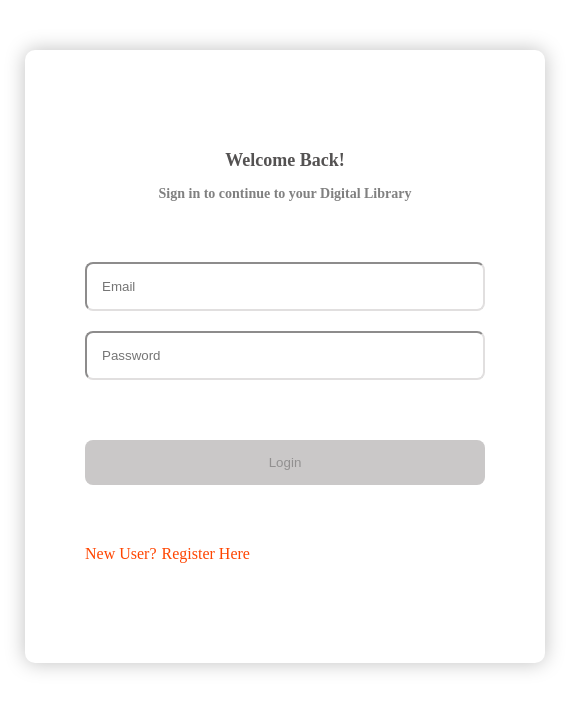
Test: LoginPage › shows success message on successful login
The image size is (571, 714).
In the field with placeholder "Email": (285, 286) top-left (85, 262), bottom-right (485, 310), type "test@example.com"
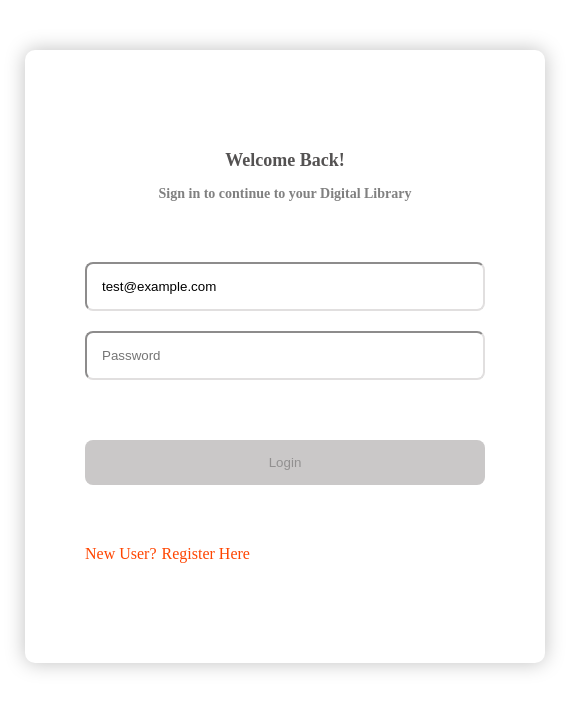
In the field with placeholder "Password": (285, 355) top-left (85, 330), bottom-right (485, 380), type "password"
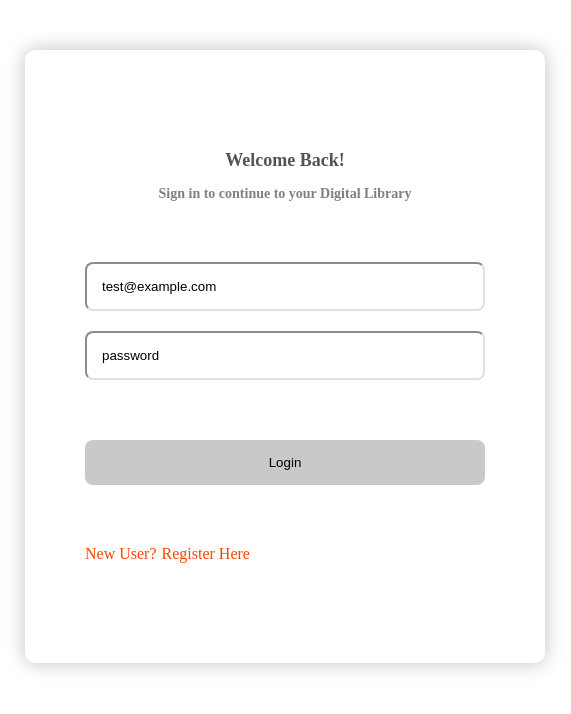
Click the button "Login": (285, 462) top-left (85, 440), bottom-right (485, 484)
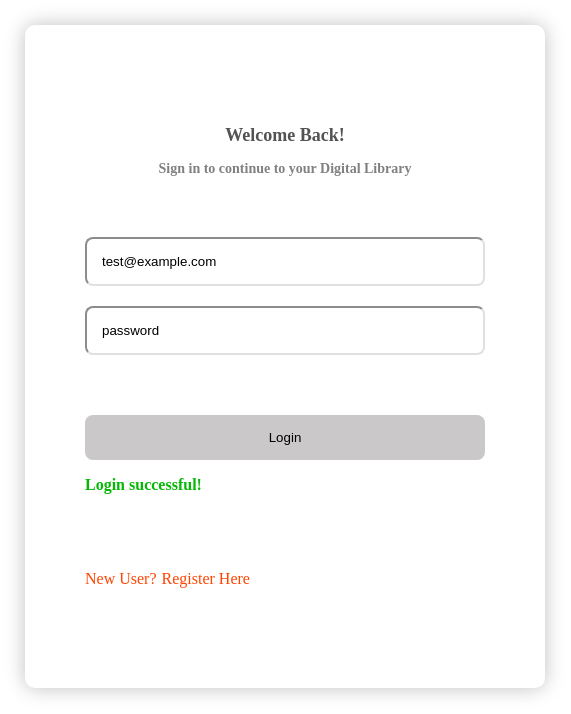
Result: the text "Login successful!" is shown at top-left (85, 476), bottom-right (202, 492)
